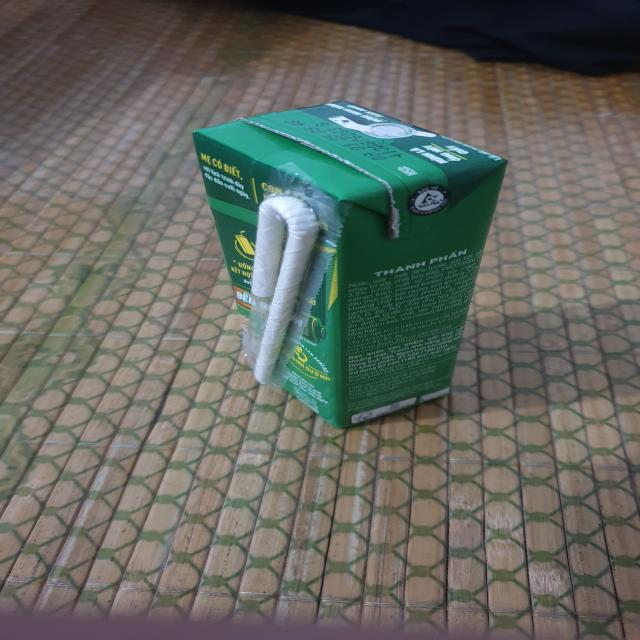Milo: (187, 100, 516, 435)
